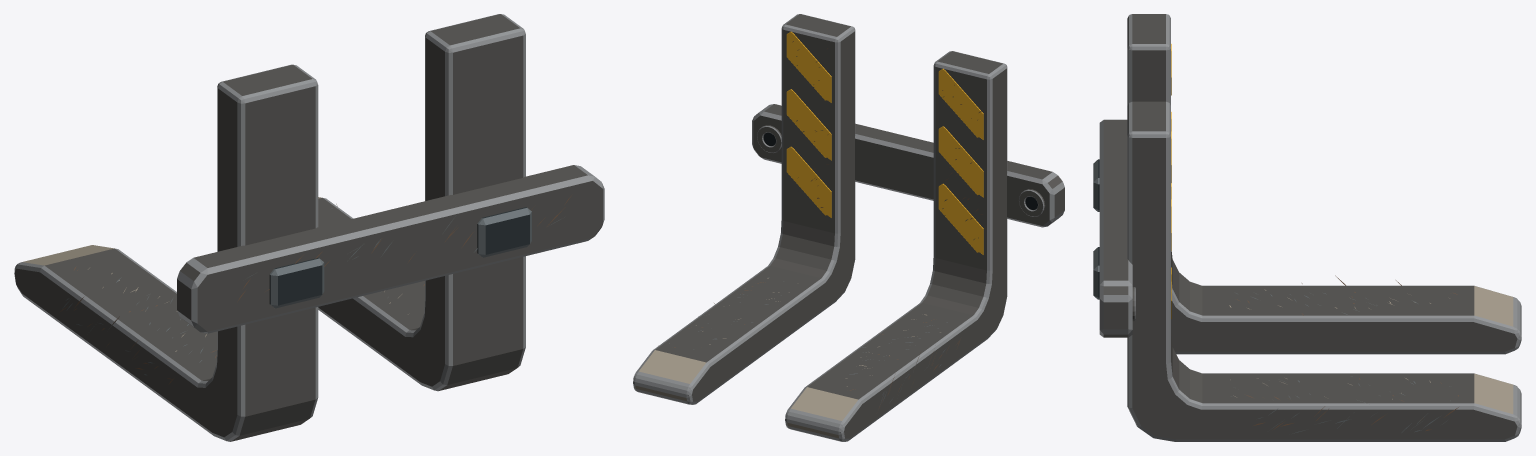
The model's file is wsc-prop-052-big-pallet-trophy.glb.
3 views of the same model, side by side, from view 1: azimuth 30°, elevation 25°; view 2: azimuth 150°, elevation 25°; view 3: azimuth 270°, elevation 25° (orthographic). The views are drawn at different scales.
Parts seen in each view (by area): view 1: WSC-PROP-052 | trophy; view 2: WSC-PROP-052 | trophy; view 3: WSC-PROP-052 | trophy.
Boxes of the visible parts, box(x1,y1,x2,y2) form: WSC-PROP-052 | trophy: box(14, 14, 604, 441); WSC-PROP-052 | trophy: box(633, 14, 1064, 441); WSC-PROP-052 | trophy: box(1093, 14, 1521, 441).
Size of the model in its own units: 0.804 by 0.667 by 0.8345.
